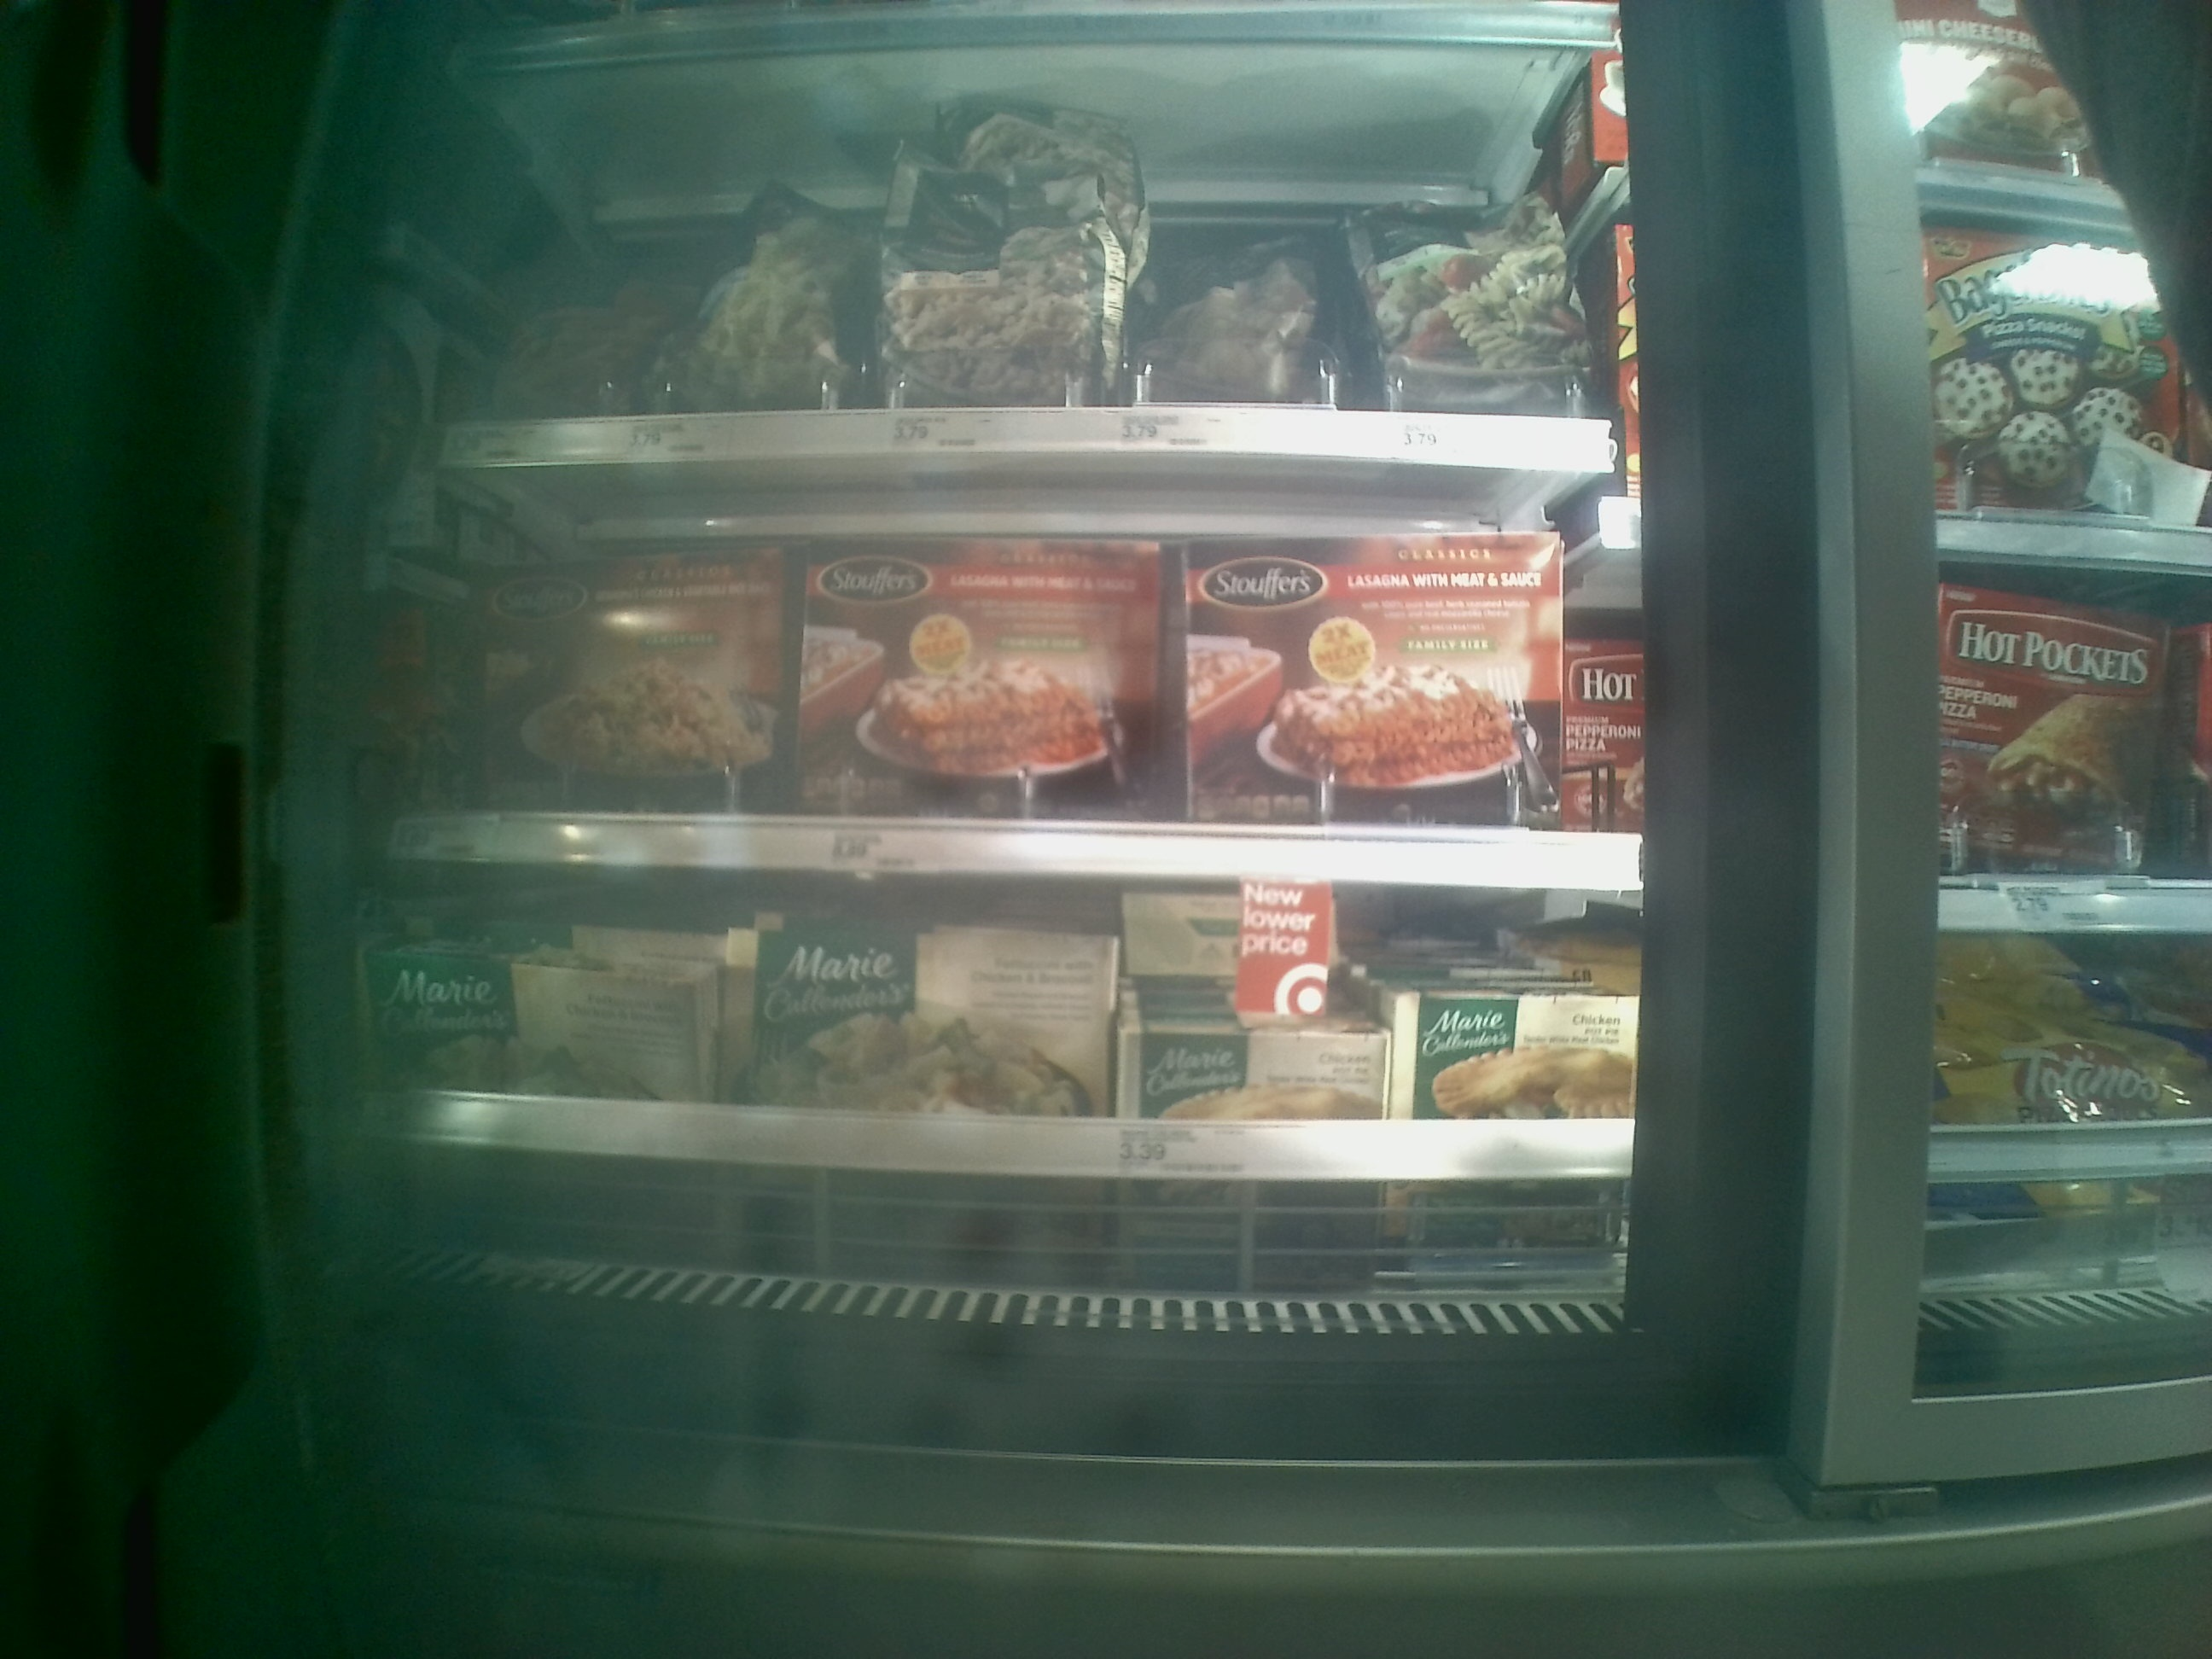shelf: (388, 491, 1632, 887), (416, 117, 1623, 476), (374, 904, 1635, 1195)
